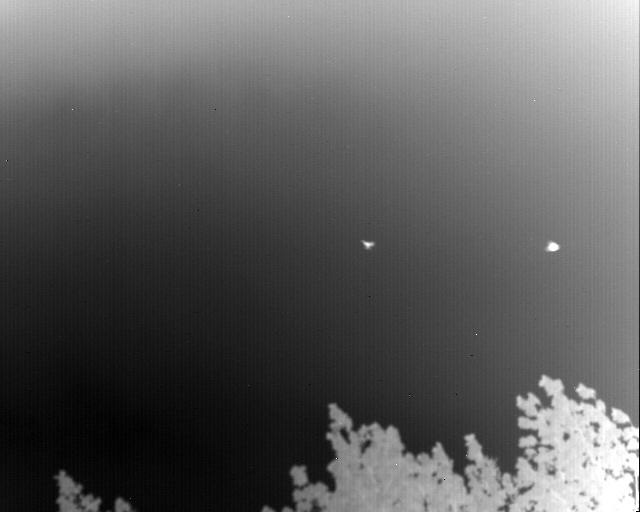plane: (362, 239, 375, 249)
